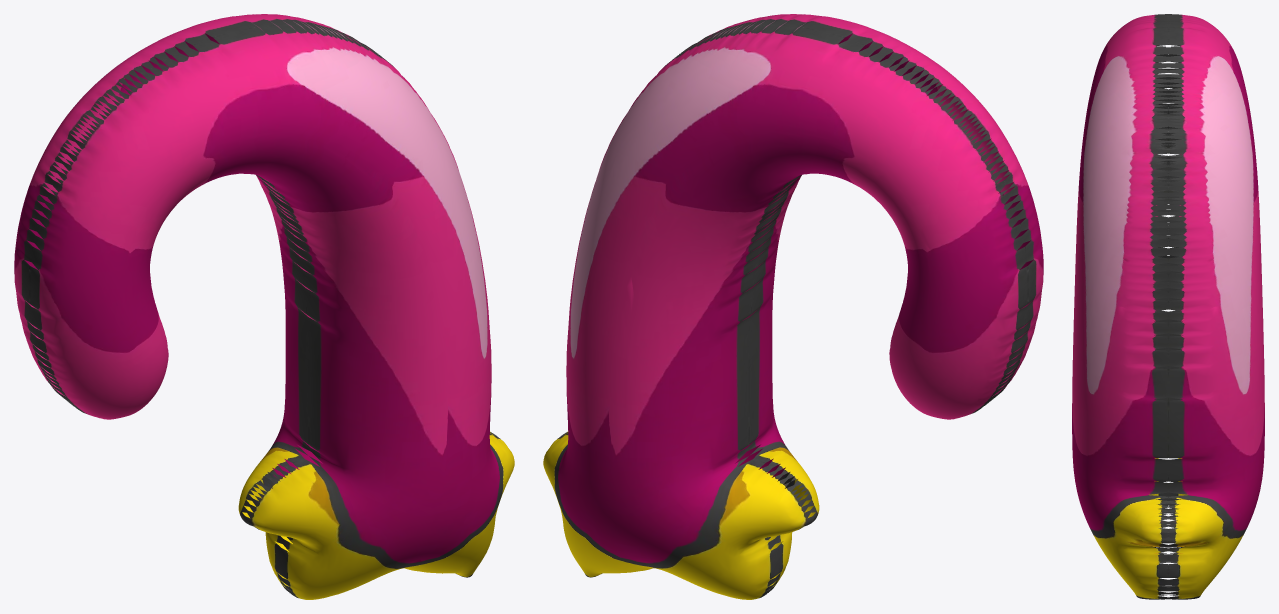
Rendered from pink_shoot.glb.
The picture shows the model from 3 angles, left to right: view 1: azimuth 30°, elevation 25°; view 2: azimuth 150°, elevation 25°; view 3: azimuth 270°, elevation 25°; orthographic projection. The views are drawn at different scales.
Parts seen in each view (by area): view 1: pink_shoot; view 2: pink_shoot; view 3: pink_shoot.
Part boxes in pixels (x1,y1,x2,y2): pink_shoot: (14, 14, 514, 599); pink_shoot: (543, 14, 1043, 599); pink_shoot: (1072, 14, 1264, 599).
Bounding box in the file's own units: 0.9869 × 1.15 × 0.4235.
1 material, 1 textured.
